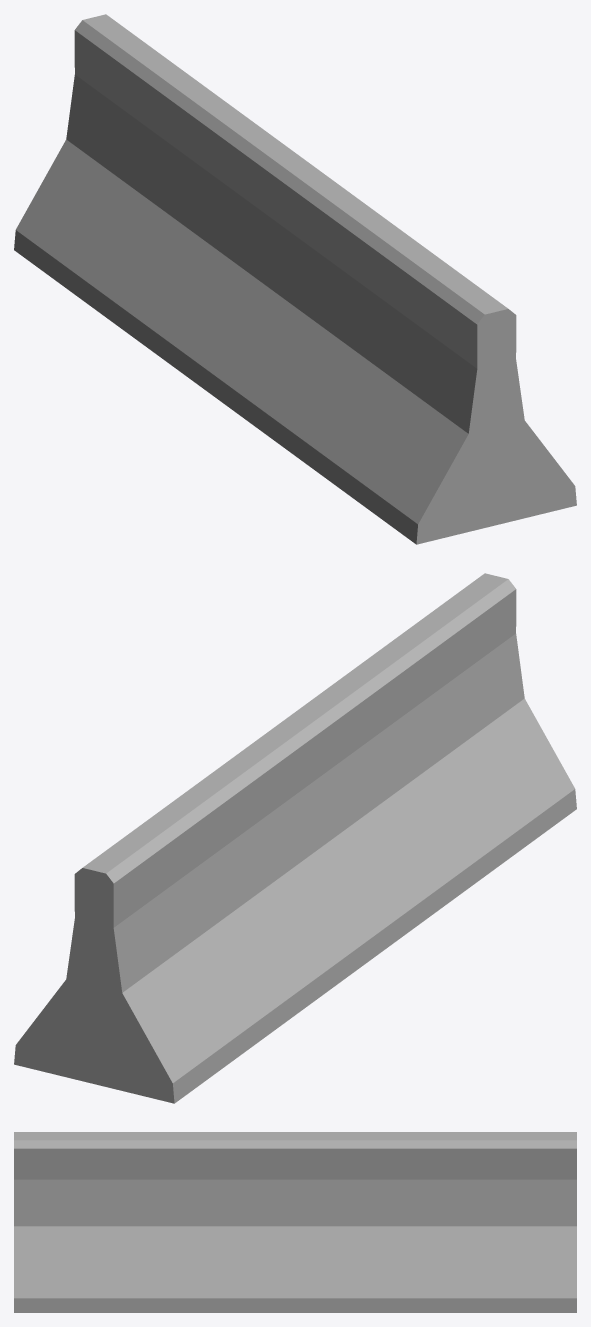
File: Barrera.fbx
3 renders of one model, top to bottom at view 1: azimuth 30°, elevation 25°; view 2: azimuth 150°, elevation 25°; view 3: azimuth 270°, elevation 25°, orthographic. The views are drawn at different scales.
Parts seen in each view (by area): view 1: Barrera; view 2: Barrera; view 3: Barrera.
Part boxes in pixels (<box>): Barrera: <box>14,14,576,544</box>; Barrera: <box>14,573,576,1103</box>; Barrera: <box>14,1132,576,1312</box>.
Bounding box in the file's own units: 2.75 × 0.6341 × 0.8055.
